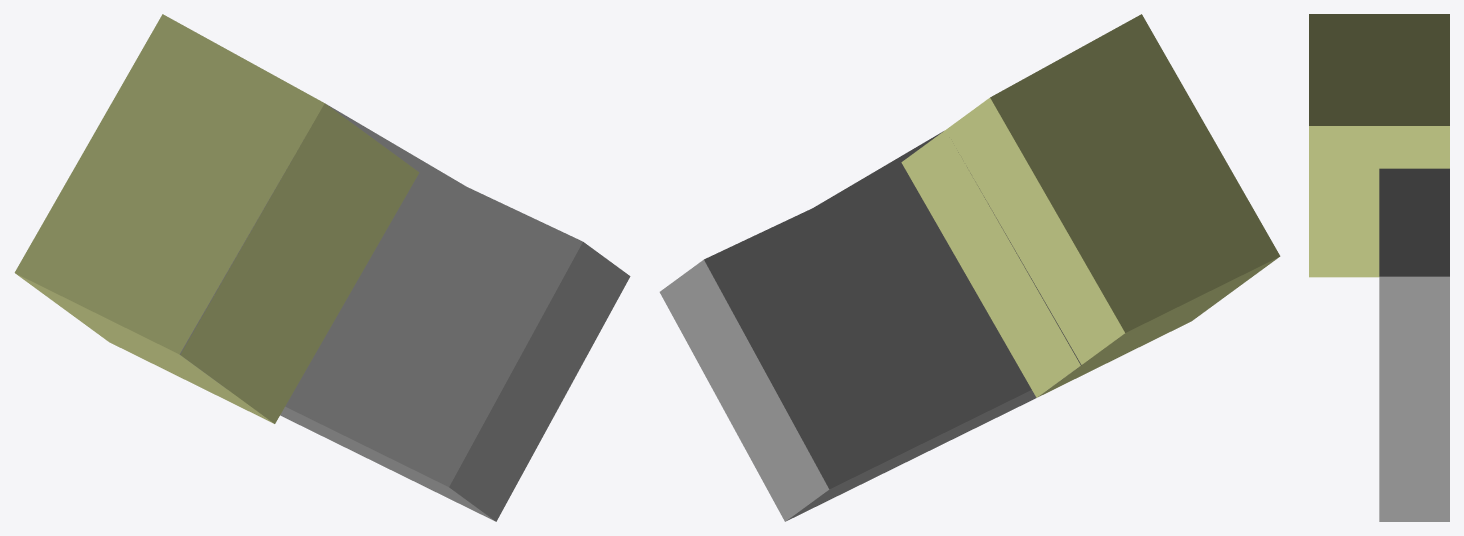
3 views of the same model, side by side, from view 1: azimuth 30°, elevation 25°; view 2: azimuth 150°, elevation 25°; view 3: azimuth 270°, elevation 25° (orthographic). The views are drawn at different scales.
Parts seen in each view (by area): view 1: 0_1_0_0_2_2_2_2_0_2; view 2: 0_1_0_0_2_2_2_2_0_2; view 3: 0_1_0_0_2_2_2_2_0_2.
Part boxes in pixels (x1,y1,x2,y2): 0_1_0_0_2_2_2_2_0_2: (14,14,630,521); 0_1_0_0_2_2_2_2_0_2: (659,14,1280,521); 0_1_0_0_2_2_2_2_0_2: (1309,14,1449,521).
Bounding box in the file's own units: 20.79 × 18.98 × 6.
